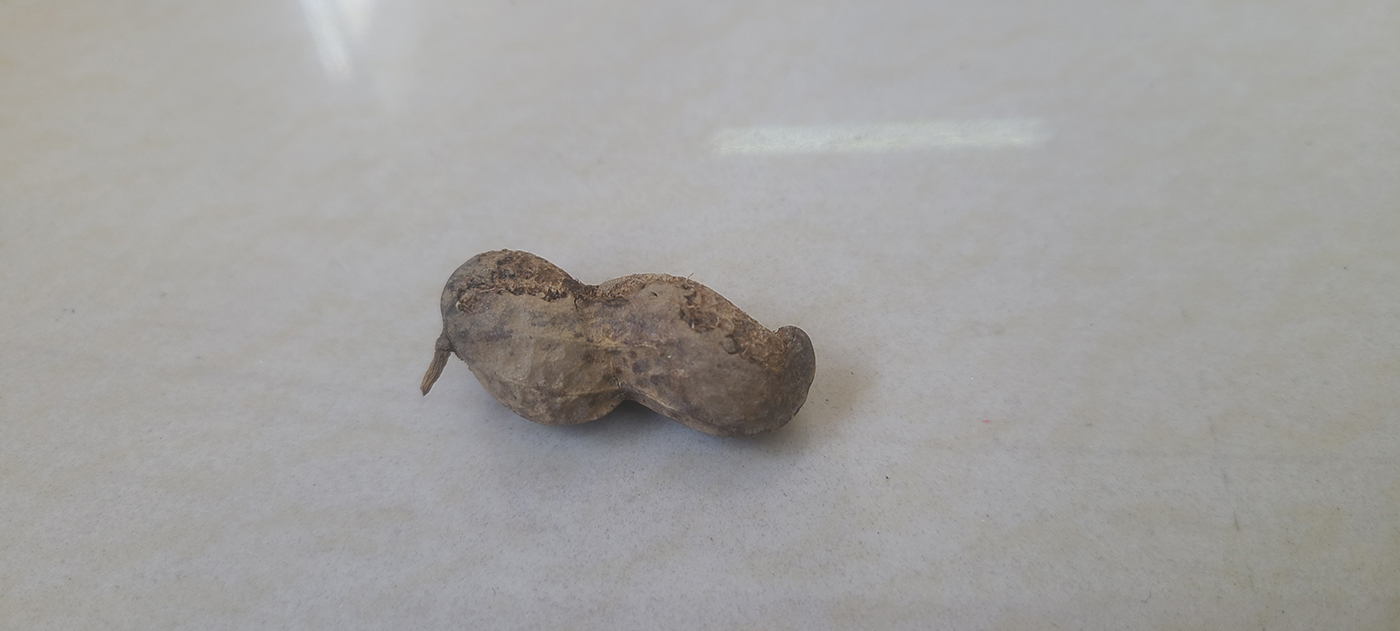l: (439, 247, 819, 442)
